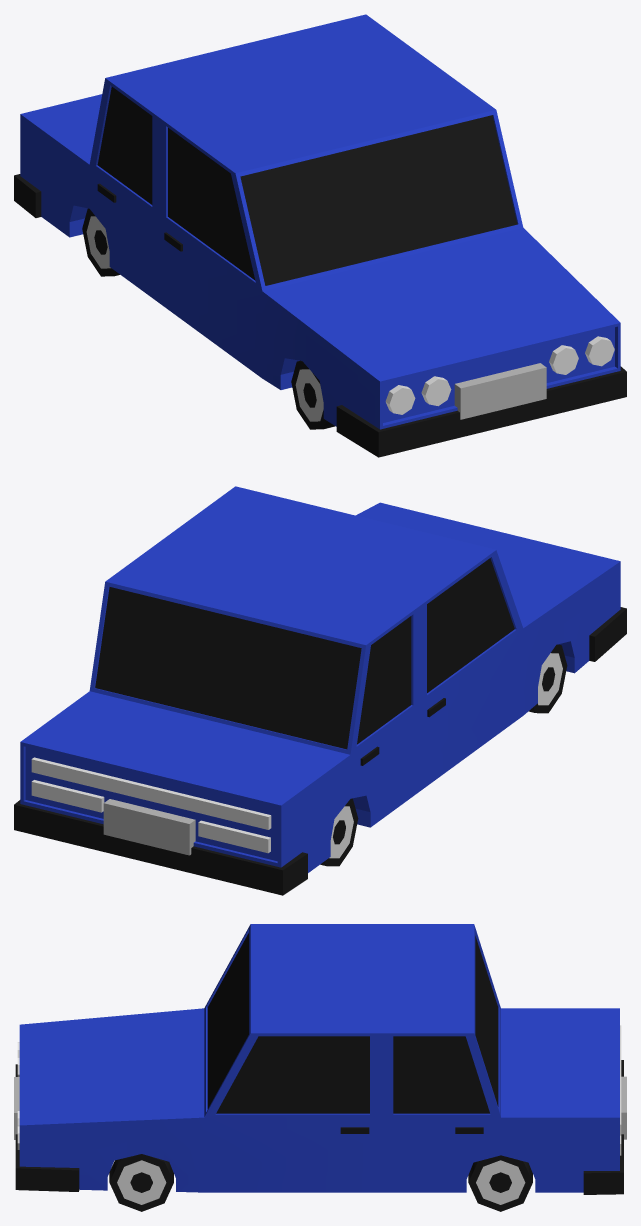
File: Car_Sedan.FBX
3 views of the same model, one above another, from view 1: azimuth 30°, elevation 25°; view 2: azimuth 150°, elevation 25°; view 3: azimuth 270°, elevation 25° (orthographic). The views are drawn at different scales.
Parts seen in each view (by area): view 1: Box001; view 2: Box001; view 3: Box001.
Boxes of the visible parts, x1=… form: Box001: x1=14, y1=14, x2=626, y2=457; Box001: x1=14, y1=486, x2=626, y2=895; Box001: x1=14, y1=924, x2=626, y2=1211.
Bounding box in the file's own units: 1.81 × 1.35 × 4.11.
